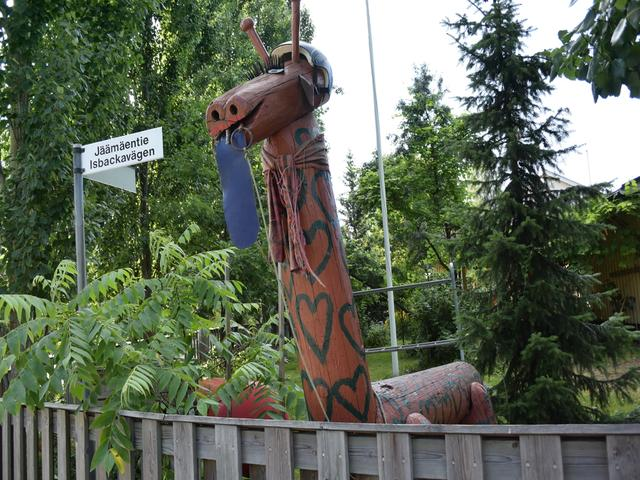giraffe: (170, 19, 551, 480)
